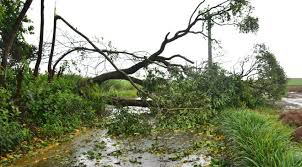obstacle: (90, 50, 231, 133)
